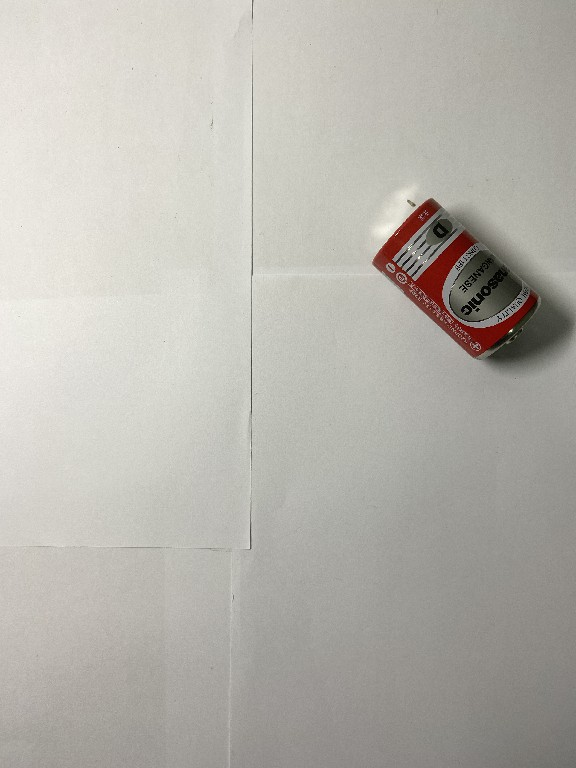charge: (367, 196, 550, 365)
